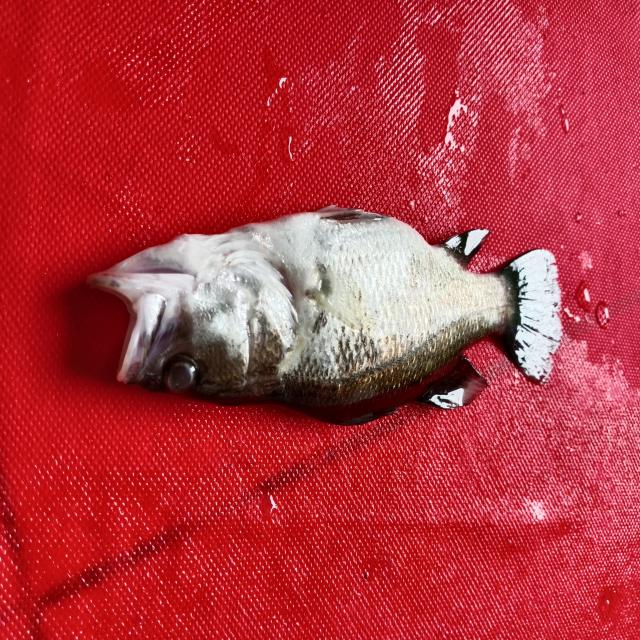ikan: (85, 179, 572, 459)
